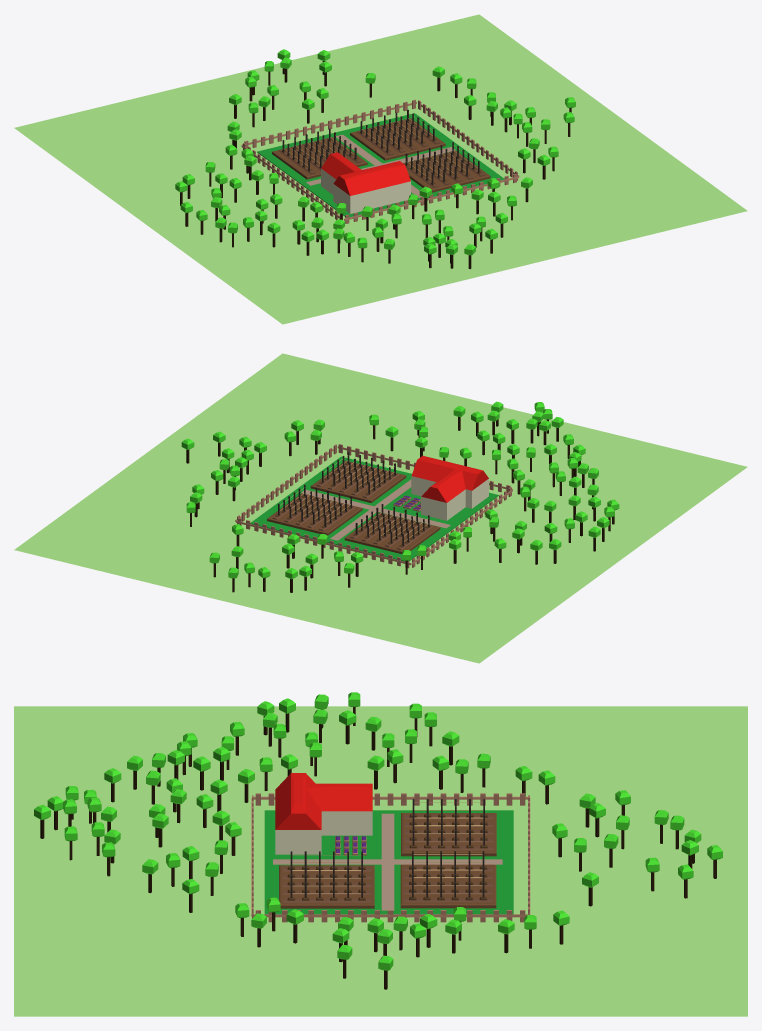
File: VineyardBlocking.fbx
3 renders of one model, top to bottom at view 1: azimuth 30°, elevation 25°; view 2: azimuth 150°, elevation 25°; view 3: azimuth 270°, elevation 25°, orthographic. The views are drawn at different scales.
Visible parts, largest first — view 1: BG Grass, Tree, Winery grass, Winery_Mainhouse, Plot 02, Plot 01, Plot 03, Fence.003, Fence.004, Winery_Sidehouse, Fence.001, Fence.002; view 2: BG Grass, Tree, Winery grass, Plot 02, Plot 01, Plot 03, Winery_Mainhouse, Winery_Sidehouse, Fence.003, Fence.001, Fence.002, Fence.004 (+2 smaller); view 3: BG Grass, Tree, Winery grass, Plot 02, Plot 01, Plot 03, Winery_Mainhouse, Winery_Sidehouse, Fence.001, Fence.002, Path.002, Path.001.
Boxes of the visible parts, x1=… form: BG Grass: x1=14, y1=14, x2=747, y2=324; Tree: x1=175, y1=49, x2=575, y2=269; Winery grass: x1=257, y1=113, x2=504, y2=217; Winery_Mainhouse: x1=333, y1=161, x2=410, y2=213; Plot 02: x1=350, y1=109, x2=445, y2=160; Plot 01: x1=403, y1=142, x2=490, y2=192; Plot 03: x1=272, y1=128, x2=367, y2=179; Fence.003: x1=242, y1=99, x2=416, y2=148; Fence.004: x1=344, y1=173, x2=518, y2=223; Winery_Sidehouse: x1=321, y1=152, x2=361, y2=194; Fence.001: x1=418, y1=100, x2=519, y2=180; Fence.002: x1=241, y1=143, x2=342, y2=219; BG Grass: x1=14, y1=353, x2=747, y2=663; Tree: x1=181, y1=401, x2=619, y2=592; Winery grass: x1=250, y1=456, x2=498, y2=561; Plot 02: x1=267, y1=484, x2=362, y2=535; Plot 01: x1=310, y1=452, x2=406, y2=502; Plot 03: x1=344, y1=504, x2=440, y2=553; Winery_Mainhouse: x1=411, y1=455, x2=488, y2=508; Winery_Sidehouse: x1=421, y1=468, x2=465, y2=520; Fence.003: x1=236, y1=518, x2=410, y2=568; Fence.001: x1=235, y1=444, x2=336, y2=524; Fence.002: x1=411, y1=487, x2=512, y2=567; Fence.004: x1=337, y1=444, x2=512, y2=492; BG Grass: x1=14, y1=706, x2=747, y2=1016; Tree: x1=34, y1=692, x2=722, y2=989; Winery grass: x1=264, y1=810, x2=513, y2=914; Plot 02: x1=400, y1=851, x2=496, y2=908; Plot 01: x1=279, y1=851, x2=374, y2=908; Plot 03: x1=401, y1=799, x2=496, y2=856; Winery_Mainhouse: x1=275, y1=773, x2=321, y2=854; Winery_Sidehouse: x1=305, y1=783, x2=372, y2=835; Fence.001: x1=253, y1=910, x2=528, y2=922; Fence.002: x1=253, y1=793, x2=527, y2=805; Path.002: x1=381, y1=813, x2=394, y2=910; Path.001: x1=273, y1=859, x2=502, y2=864.
Size of the model in its own units: 2877 by 190 by 2877.
